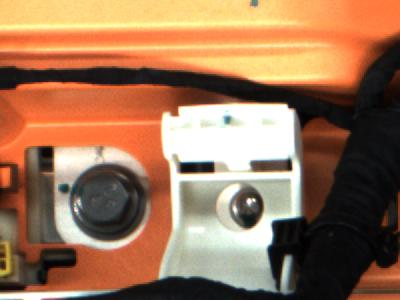nut_b: (57, 145, 156, 235)
